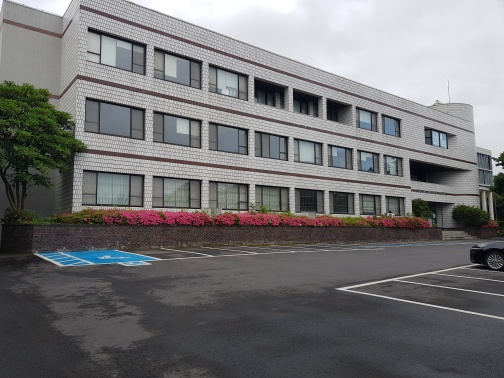Foreign Language Institute: (34, 8, 482, 248), (86, 27, 251, 106), (253, 180, 411, 244), (205, 118, 357, 173)
